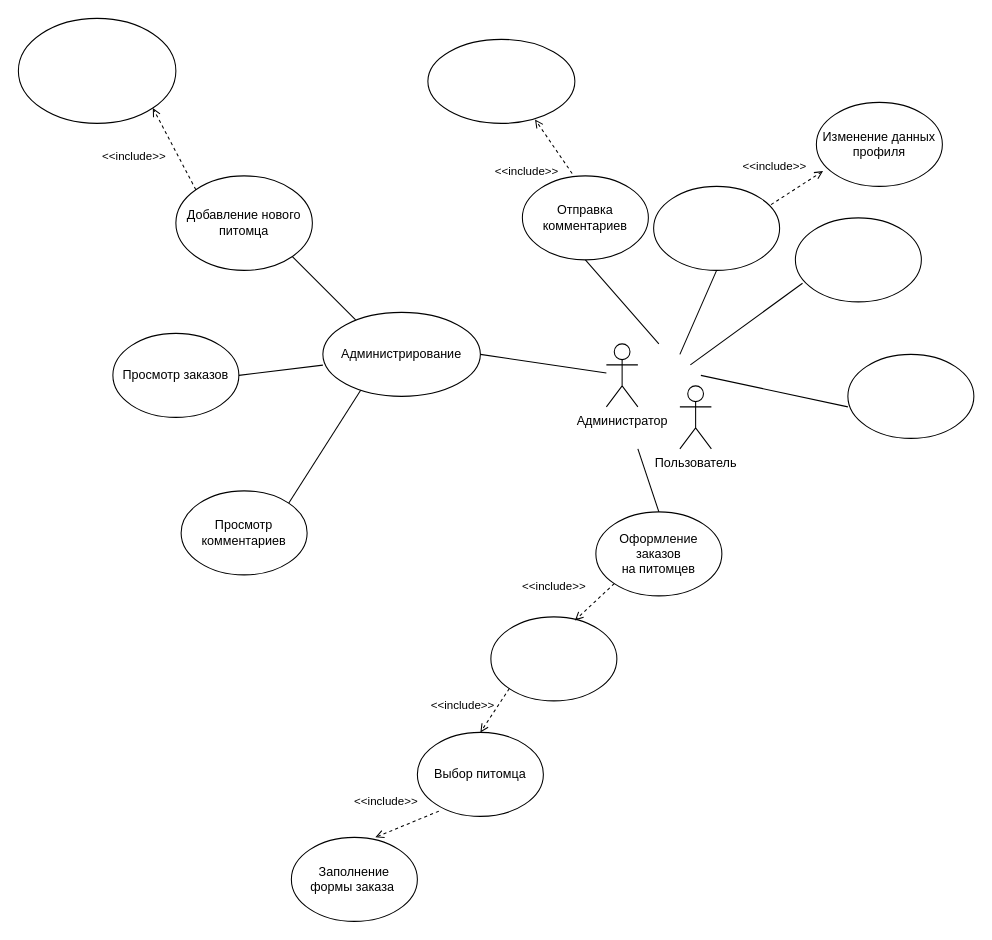
This 992x940 diagram has some shape labels left out. The shapes that lost their labels are listed below. From the top down, each one's box as (x1, y1, x2, y2) in pixels, then its label:
(17, 17, 176, 123): Заполнение формы добавления питомца
(427, 38, 575, 123): Заполнение формы комментария
(653, 185, 780, 270): Просмотр данных профиля
(794, 217, 921, 302): Регистрация
(847, 353, 974, 438): Авторизация
(490, 616, 617, 701): Выбор типа питомца
